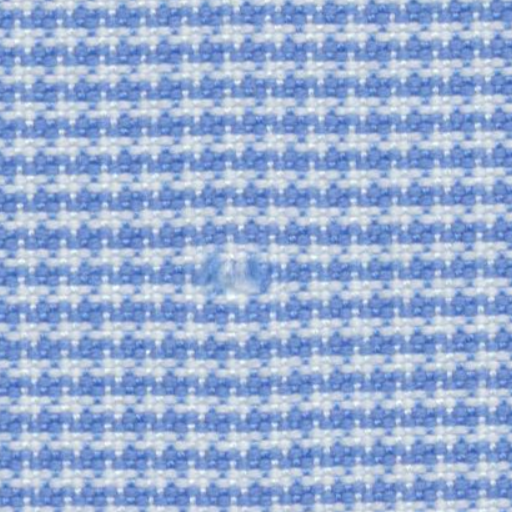PoDong: (174, 240, 285, 322)
